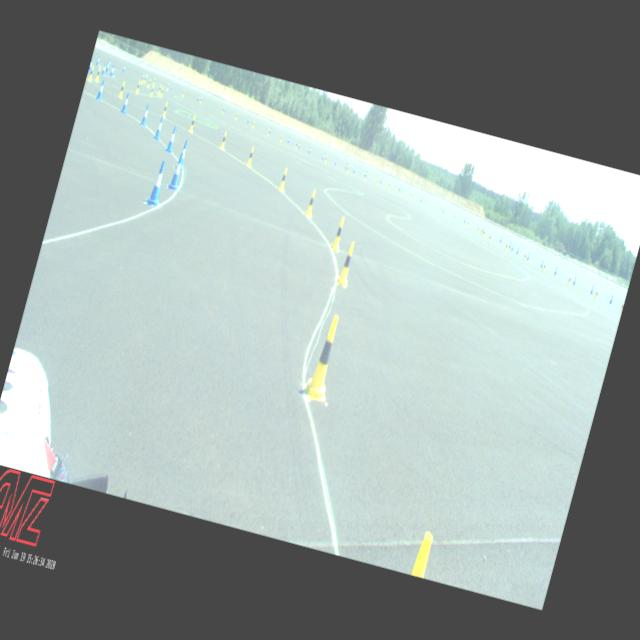blue_cone: (145, 160, 169, 208), (166, 151, 186, 191), (174, 138, 190, 170), (165, 126, 178, 152), (153, 114, 165, 140), (140, 104, 151, 125), (120, 92, 130, 114), (96, 79, 106, 100), (100, 64, 106, 76), (110, 64, 116, 76), (88, 58, 93, 72), (608, 294, 614, 304), (109, 65, 114, 76), (95, 55, 100, 65), (589, 284, 594, 294), (106, 62, 110, 72), (540, 258, 544, 268), (554, 266, 558, 275), (526, 252, 530, 260), (572, 276, 576, 284), (510, 243, 514, 250), (516, 245, 520, 252), (508, 242, 512, 248), (108, 59, 111, 66)
yellow_cone: (301, 312, 346, 402), (335, 241, 358, 287), (329, 214, 347, 252), (304, 188, 318, 218), (277, 167, 288, 191), (246, 146, 256, 168), (161, 100, 169, 118), (188, 114, 196, 132), (220, 131, 228, 149), (118, 81, 126, 98), (94, 66, 102, 82), (87, 66, 95, 82), (134, 80, 140, 94), (149, 84, 155, 96), (158, 86, 164, 98), (593, 288, 599, 299), (566, 274, 572, 284), (146, 78, 150, 88), (143, 74, 147, 84), (158, 84, 162, 94), (620, 302, 624, 312), (140, 74, 144, 84), (522, 252, 526, 261), (152, 77, 156, 86), (166, 83, 170, 91), (504, 242, 508, 250), (542, 262, 546, 270)
